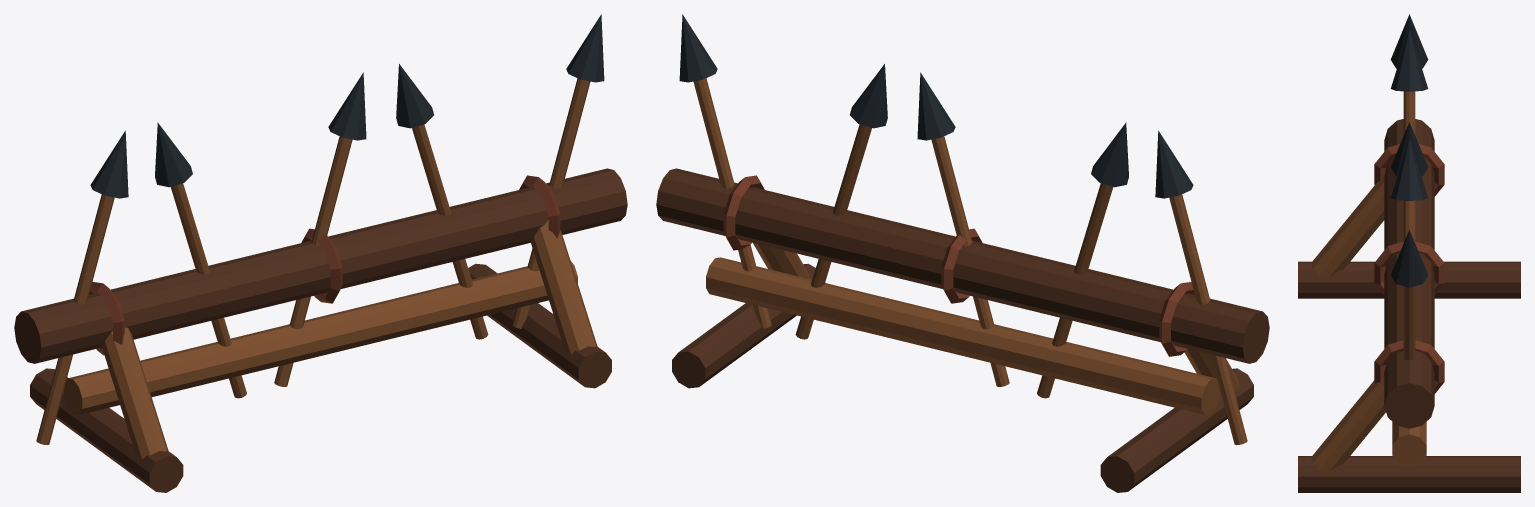
The model's file is battle_spiked_field_barricade_LOD0.glb.
3 renders of one model, left to right at view 1: azimuth 30°, elevation 25°; view 2: azimuth 150°, elevation 25°; view 3: azimuth 270°, elevation 25°, orthographic. The views are drawn at different scales.
Visible parts, largest first — view 1: battle_spiked_field_barricade_LOD0; view 2: battle_spiked_field_barricade_LOD0; view 3: battle_spiked_field_barricade_LOD0.
Part boxes in pixels (<box>): battle_spiked_field_barricade_LOD0: <box>14,14,627,492</box>; battle_spiked_field_barricade_LOD0: <box>656,14,1269,492</box>; battle_spiked_field_barricade_LOD0: <box>1298,14,1520,492</box>.
Size of the model in its own units: 3.5 by 1.79 by 1.24.
